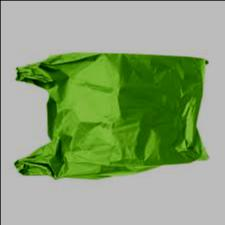Plastic: (7, 52, 220, 181)
